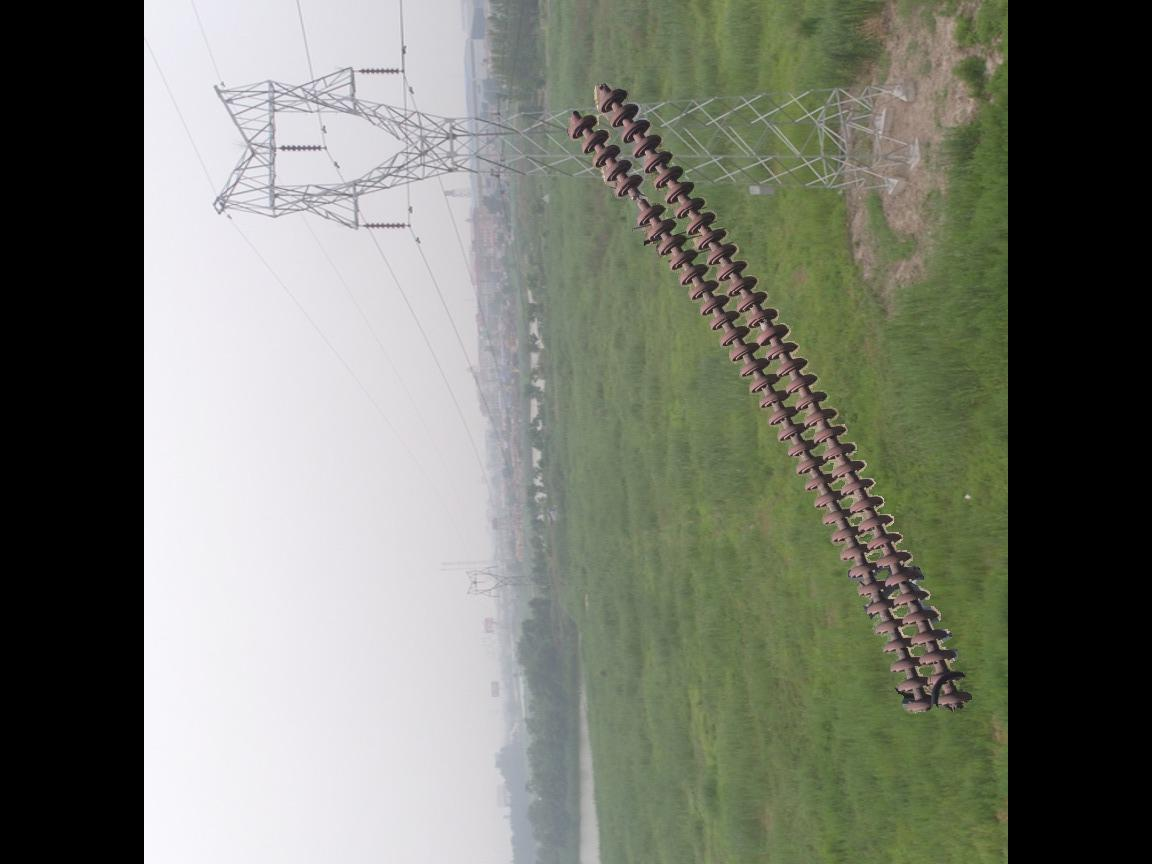insulator: (568, 81, 978, 719), (277, 140, 324, 154), (356, 65, 405, 78), (362, 218, 408, 231)
insulator_stringdrop: (613, 171, 667, 231)
